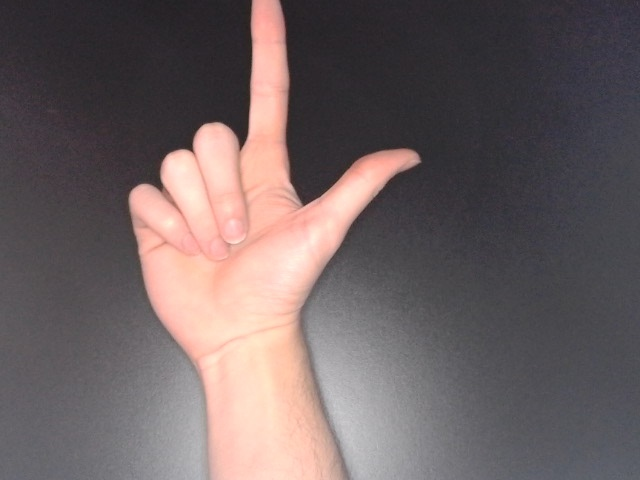l: (122, 1, 426, 374)
